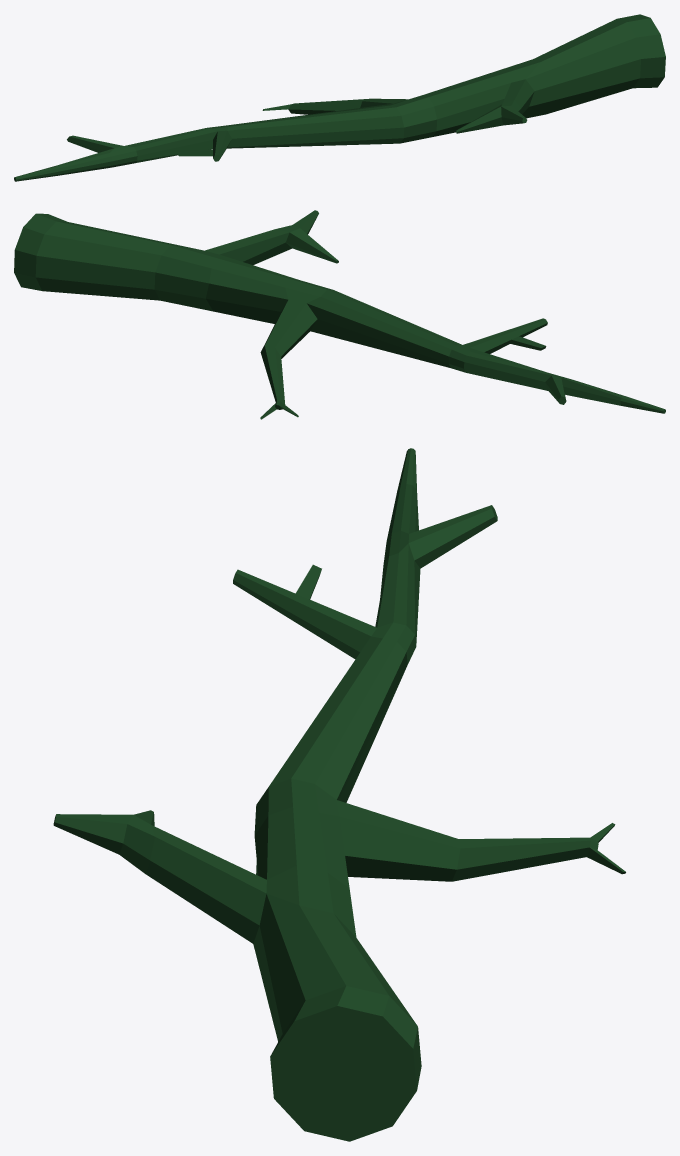
The model's file is troncocaidoverde.fbx.
3 views of the same model, one above another, from view 1: azimuth 30°, elevation 25°; view 2: azimuth 150°, elevation 25°; view 3: azimuth 270°, elevation 25° (orthographic). The views are drawn at different scales.
Parts seen in each view (by area): view 1: Cylinder.005; view 2: Cylinder.005; view 3: Cylinder.005.
Part boxes in pixels (x1=…): Cylinder.005: x1=14, y1=14, x2=665, y2=181; Cylinder.005: x1=14, y1=210, x2=665, y2=419; Cylinder.005: x1=53, y1=448, x2=625, y2=1141.
Size of the model in its own units: 850 by 97.05 by 341.
